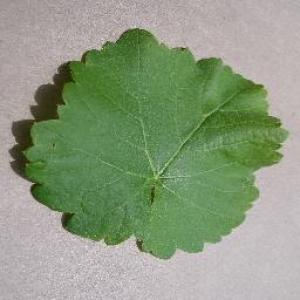Folha: (20, 27, 289, 260)
